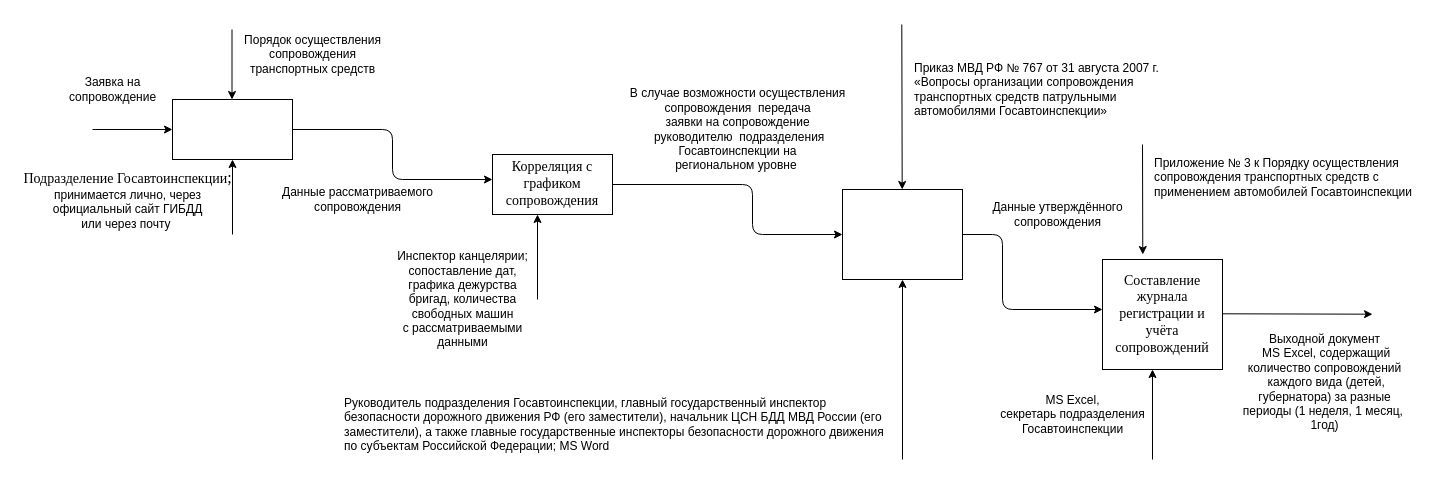
This 1431x485 diagram has some shape labels left out. The shapes that lost their labels are listed below. From the top down, each one's box as (x1, y1, x2, y2) in pixels, then its label:
(172, 98, 292, 160): Приём заявки на сопровождение
(842, 188, 962, 280): Утверждение распоряжения по сопровождению или отказ в сопровождении
